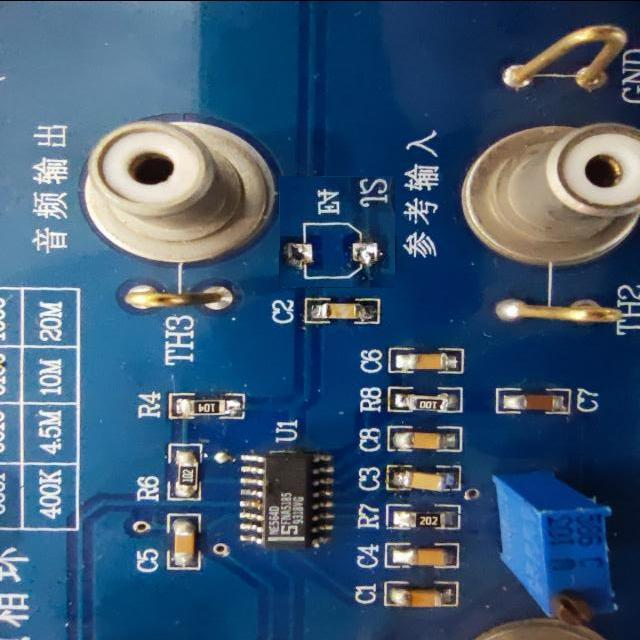miss_welding: (279, 177, 395, 287)
